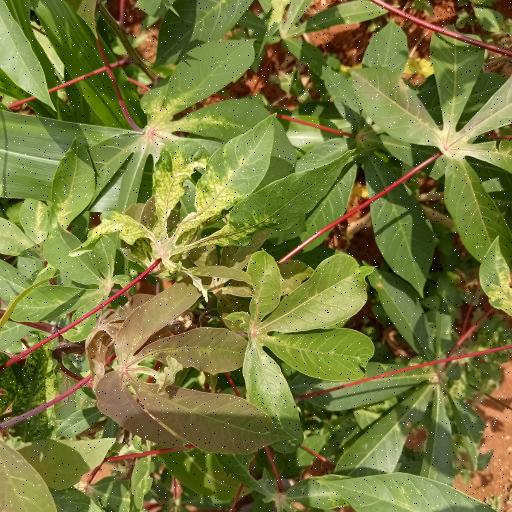Cassava_Brown_Leaf_Spot: (78, 114, 324, 290)
Cassava_Healthy: (350, 28, 512, 271), (242, 247, 380, 443)
